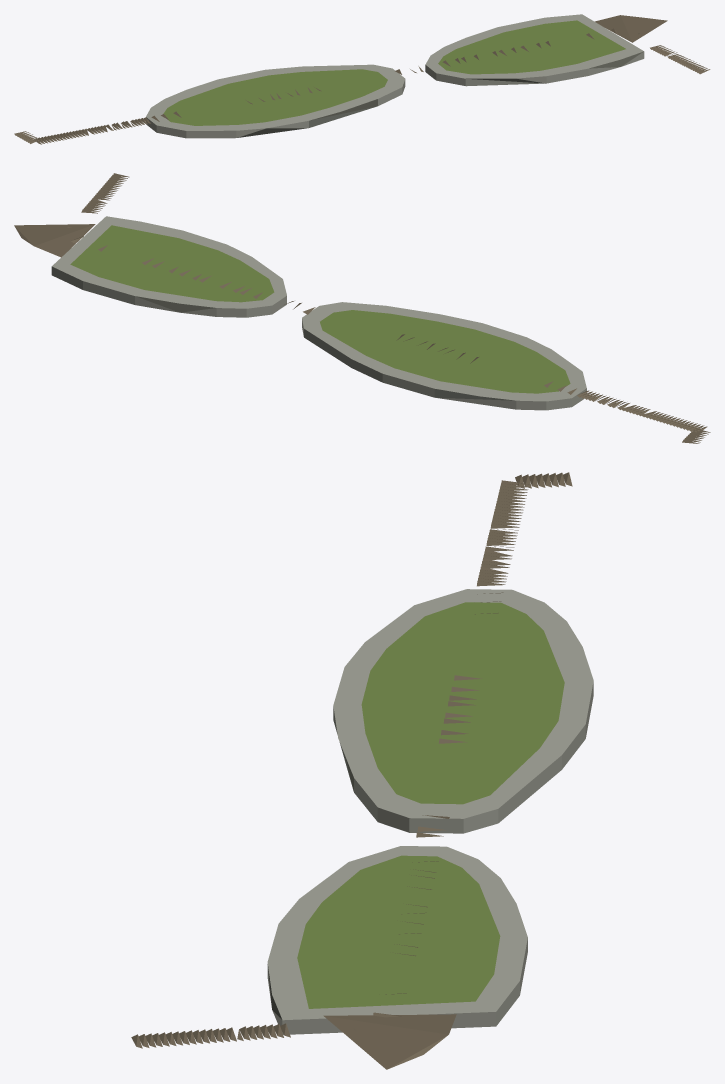
File: dorus-theus-brug.lod2.glb
The picture shows the model from 3 angles, top to bottom: view 1: azimuth 30°, elevation 25°; view 2: azimuth 150°, elevation 25°; view 3: azimuth 270°, elevation 25°; orthographic projection. The views are drawn at different scales.
Parts seen in each view (by area): view 1: lod2; view 2: lod2; view 3: lod2.
Boxes of the visible parts, bbox=[...] form: lod2: bbox=[14, 14, 710, 144]; lod2: bbox=[14, 173, 710, 443]; lod2: bbox=[131, 472, 593, 1069].
Size of the model in its own units: 51.36 by 0.7147 by 16.9.
